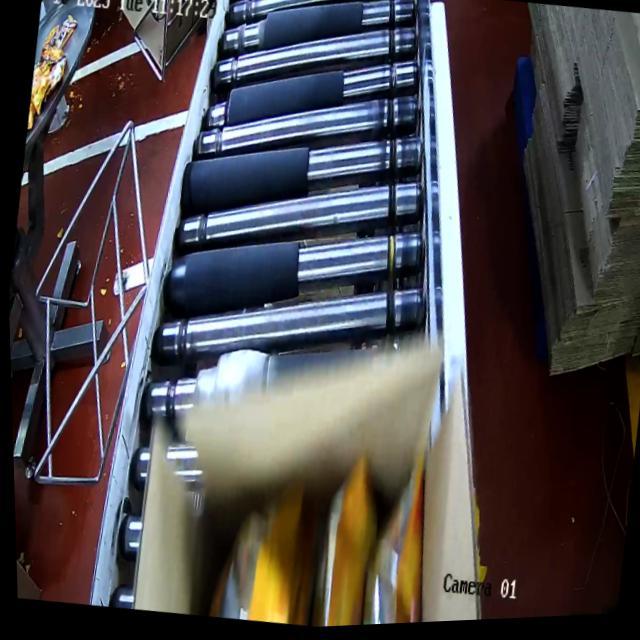FRENCH_CHEESE: (165, 402, 453, 633)
